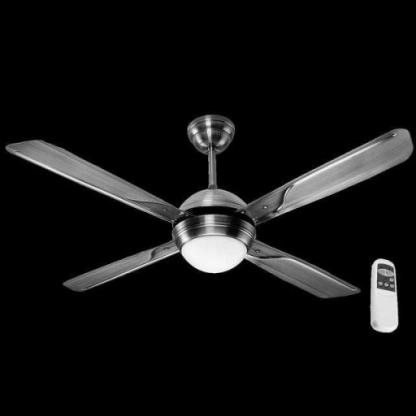ceiling-fan: (2, 102, 416, 300)
